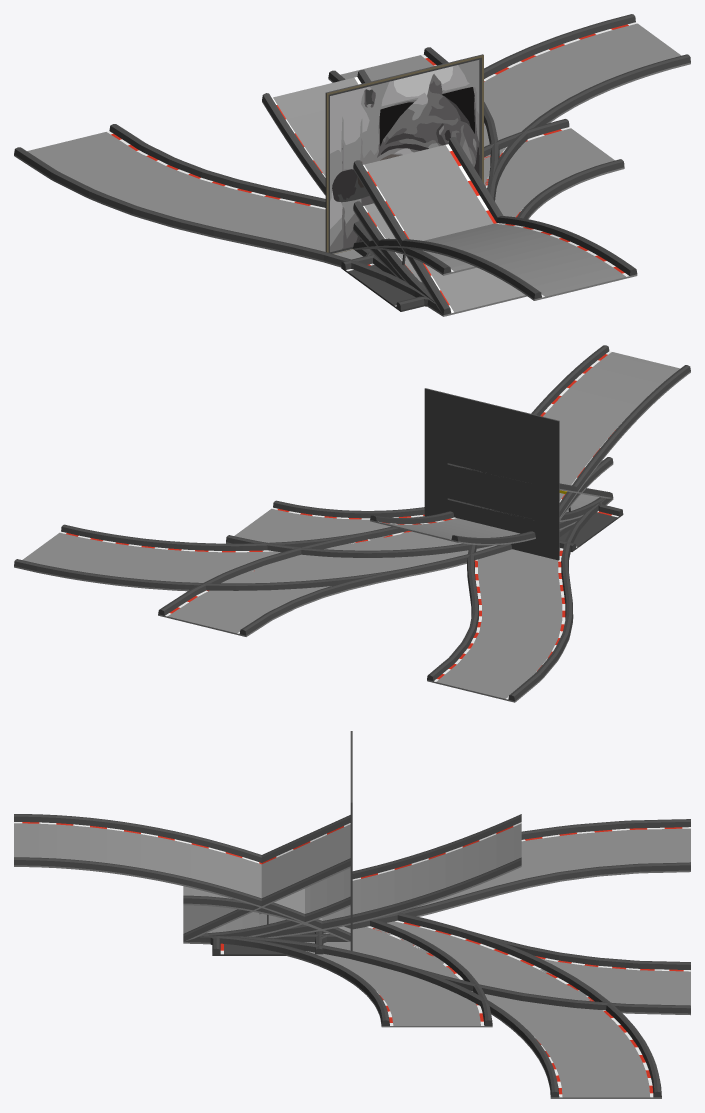
Rendered from cobblestone.glb.
The picture shows the model from 3 angles, top to bottom: view 1: azimuth 30°, elevation 25°; view 2: azimuth 150°, elevation 25°; view 3: azimuth 270°, elevation 25°; orthographic projection. The views are drawn at different scales.
Parts seen in each view (by area): view 1: TurnSLeft, SignHardFish, TurnLong, SlopeDownLong, Slope, SlopePillar, TurnShort, SlopeUpLong, TurnSRight, SlopeUp, IntersectionCross, SlopeDown (+1 smaller); view 2: SignHardFish, TurnLong, TurnSLeft, SlopeDownLong, TurnSRight, TurnShort, SlopeUpLong, IntersectionCross, SlopeUp; view 3: TurnLong, SlopeDownLong, TurnSLeft, SlopeUpLong, TurnShort, TurnSRight, Slope, SlopeUp, SlopePillar, SlopeDown, IntersectionCross, SignHardFish.
Part boxes in pixels (bbox=[...]): TurnSLeft: bbox=[14, 124, 443, 316]; SignHardFish: bbox=[325, 54, 483, 254]; TurnLong: bbox=[443, 14, 690, 316]; SlopeDownLong: bbox=[352, 216, 637, 300]; Slope: bbox=[353, 137, 525, 314]; SlopePillar: bbox=[365, 152, 521, 310]; TurnShort: bbox=[421, 119, 624, 316]; SlopeUpLong: bbox=[262, 70, 404, 280]; TurnSRight: bbox=[328, 47, 499, 201]; SlopeUp: bbox=[353, 201, 433, 301]; IntersectionCross: bbox=[341, 249, 429, 311]; SlopeDown: bbox=[353, 247, 476, 275]; SignHardFish: bbox=[424, 388, 559, 560]; TurnLong: bbox=[14, 524, 501, 591]; TurnSLeft: bbox=[427, 498, 613, 702]; SlopeDownLong: bbox=[531, 345, 690, 518]; TurnSRight: bbox=[158, 497, 599, 636]; TurnShort: bbox=[226, 500, 493, 557]; SlopeUpLong: bbox=[370, 511, 579, 545]; IntersectionCross: bbox=[559, 502, 623, 551]; SlopeUp: bbox=[447, 494, 605, 521]; TurnLong: bbox=[227, 913, 661, 1098]; SlopeDownLong: bbox=[14, 814, 350, 940]; TurnSLeft: bbox=[304, 819, 690, 933]; SlopeUpLong: bbox=[254, 814, 521, 938]; TurnShort: bbox=[205, 919, 492, 1027]; TurnSRight: bbox=[183, 913, 690, 1015]; Slope: bbox=[183, 815, 350, 941]; SlopeUp: bbox=[199, 868, 350, 936]; SlopePillar: bbox=[184, 827, 350, 932]; SlopeDown: bbox=[183, 886, 350, 941]; IntersectionCross: bbox=[210, 934, 347, 955]; SignHardFish: bbox=[350, 731, 352, 950].
Bounding box in the file's own units: 76.57 × 20 × 80.
